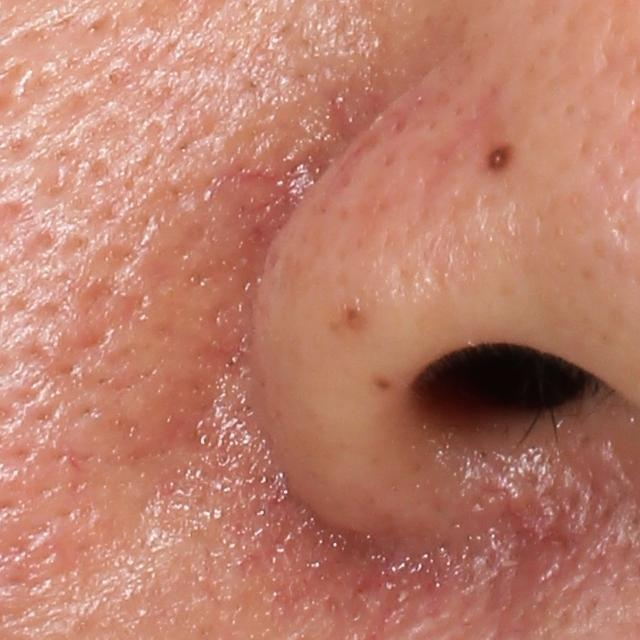atrophic_scar: (472, 495, 586, 601)
nevus: (483, 143, 513, 174)
